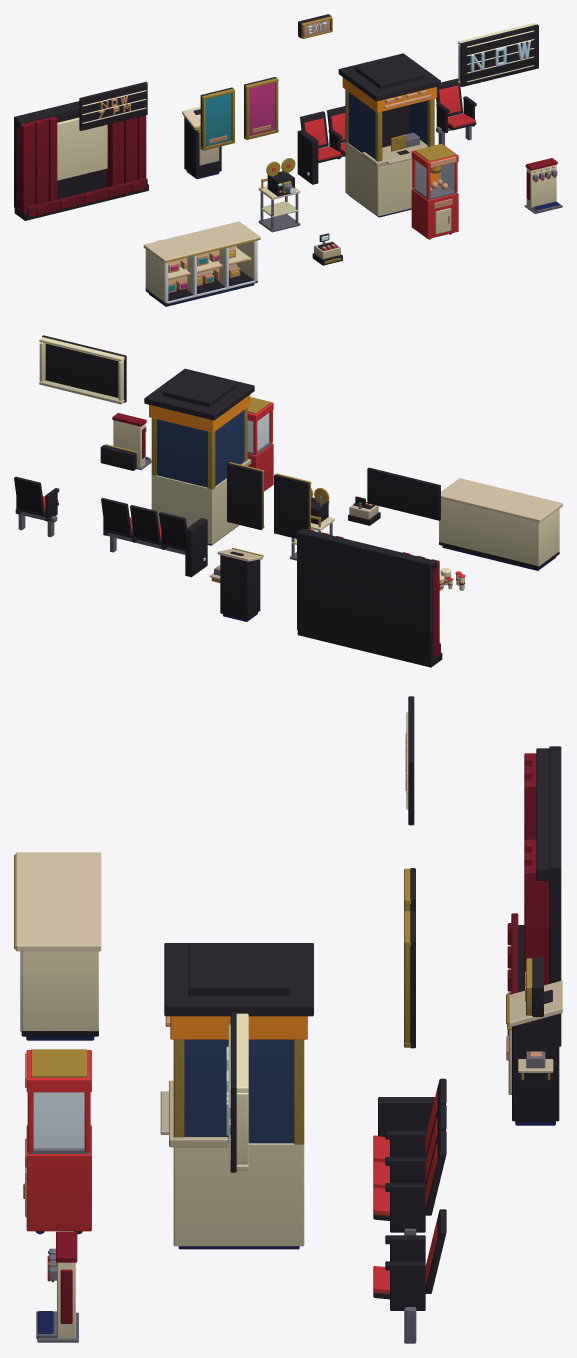
Rendered from pack.fbx.
3 views of the same model, one above another, from view 1: azimuth 30°, elevation 25°; view 2: azimuth 150°, elevation 25°; view 3: azimuth 270°, elevation 25° (orthographic). The views are drawn at different scales.
Visible parts, largest first — view 1: screen_stage, ticket_booth, concession_counter, popcorn_machine, poster_lightboxes, now_sign, seat_row, letter_rows, projector, single_seat, usher_stand, soda_tower (+2 smaller); view 2: screen_stage, ticket_booth, concession_counter, now_sign, poster_lightboxes, seat_row, usher_stand, letter_rows, popcorn_machine, single_seat, soda_tower, projector (+2 smaller); view 3: ticket_booth, concession_counter, popcorn_machine, screen_stage, seat_row, usher_stand, single_seat, now_sign, soda_tower, poster_lightboxes, letter_rows, exit_sign.
Boxes of the visible parts, box(x1,y1,x2,y2) form: screen_stage: box(14, 101, 148, 220); ticket_booth: box(338, 53, 440, 217); concession_counter: box(143, 221, 260, 306); popcorn_machine: box(411, 144, 458, 239); poster_lightboxes: box(200, 77, 278, 150); now_sign: box(458, 23, 538, 86); seat_row: box(297, 106, 345, 184); letter_rows: box(79, 82, 147, 130); projector: box(258, 158, 300, 232); single_seat: box(436, 78, 476, 145); usher_stand: box(182, 106, 221, 179); soda_tower: box(524, 158, 562, 213); screen_stage: box(297, 528, 442, 667); ticket_booth: box(144, 368, 254, 545); concession_counter: box(439, 478, 562, 570); now_sign: box(39, 335, 126, 404); poster_lightboxes: box(227, 462, 311, 538); seat_row: box(101, 498, 207, 577); usher_stand: box(209, 548, 263, 621); letter_rows: box(367, 467, 440, 520); popcorn_machine: box(247, 397, 273, 491); single_seat: box(14, 476, 59, 537); soda_tower: box(112, 413, 151, 469); projector: box(290, 488, 334, 560); ticket_booth: box(160, 943, 313, 1249); concession_counter: box(14, 852, 101, 1040); popcorn_machine: box(23, 1049, 91, 1234); screen_stage: box(507, 746, 561, 1046); seat_row: box(373, 1078, 446, 1235); usher_stand: box(506, 980, 562, 1125); single_seat: box(373, 1209, 446, 1343); now_sign: box(226, 1012, 248, 1172); soda_tower: box(36, 1231, 78, 1342); poster_lightboxes: box(404, 868, 415, 1048); letter_rows: box(405, 696, 414, 825); exit_sign: box(525, 957, 543, 1016).
Size of the model in its own units: 8.55 by 2.6 by 4.62.
2 materials, 2 textured.
